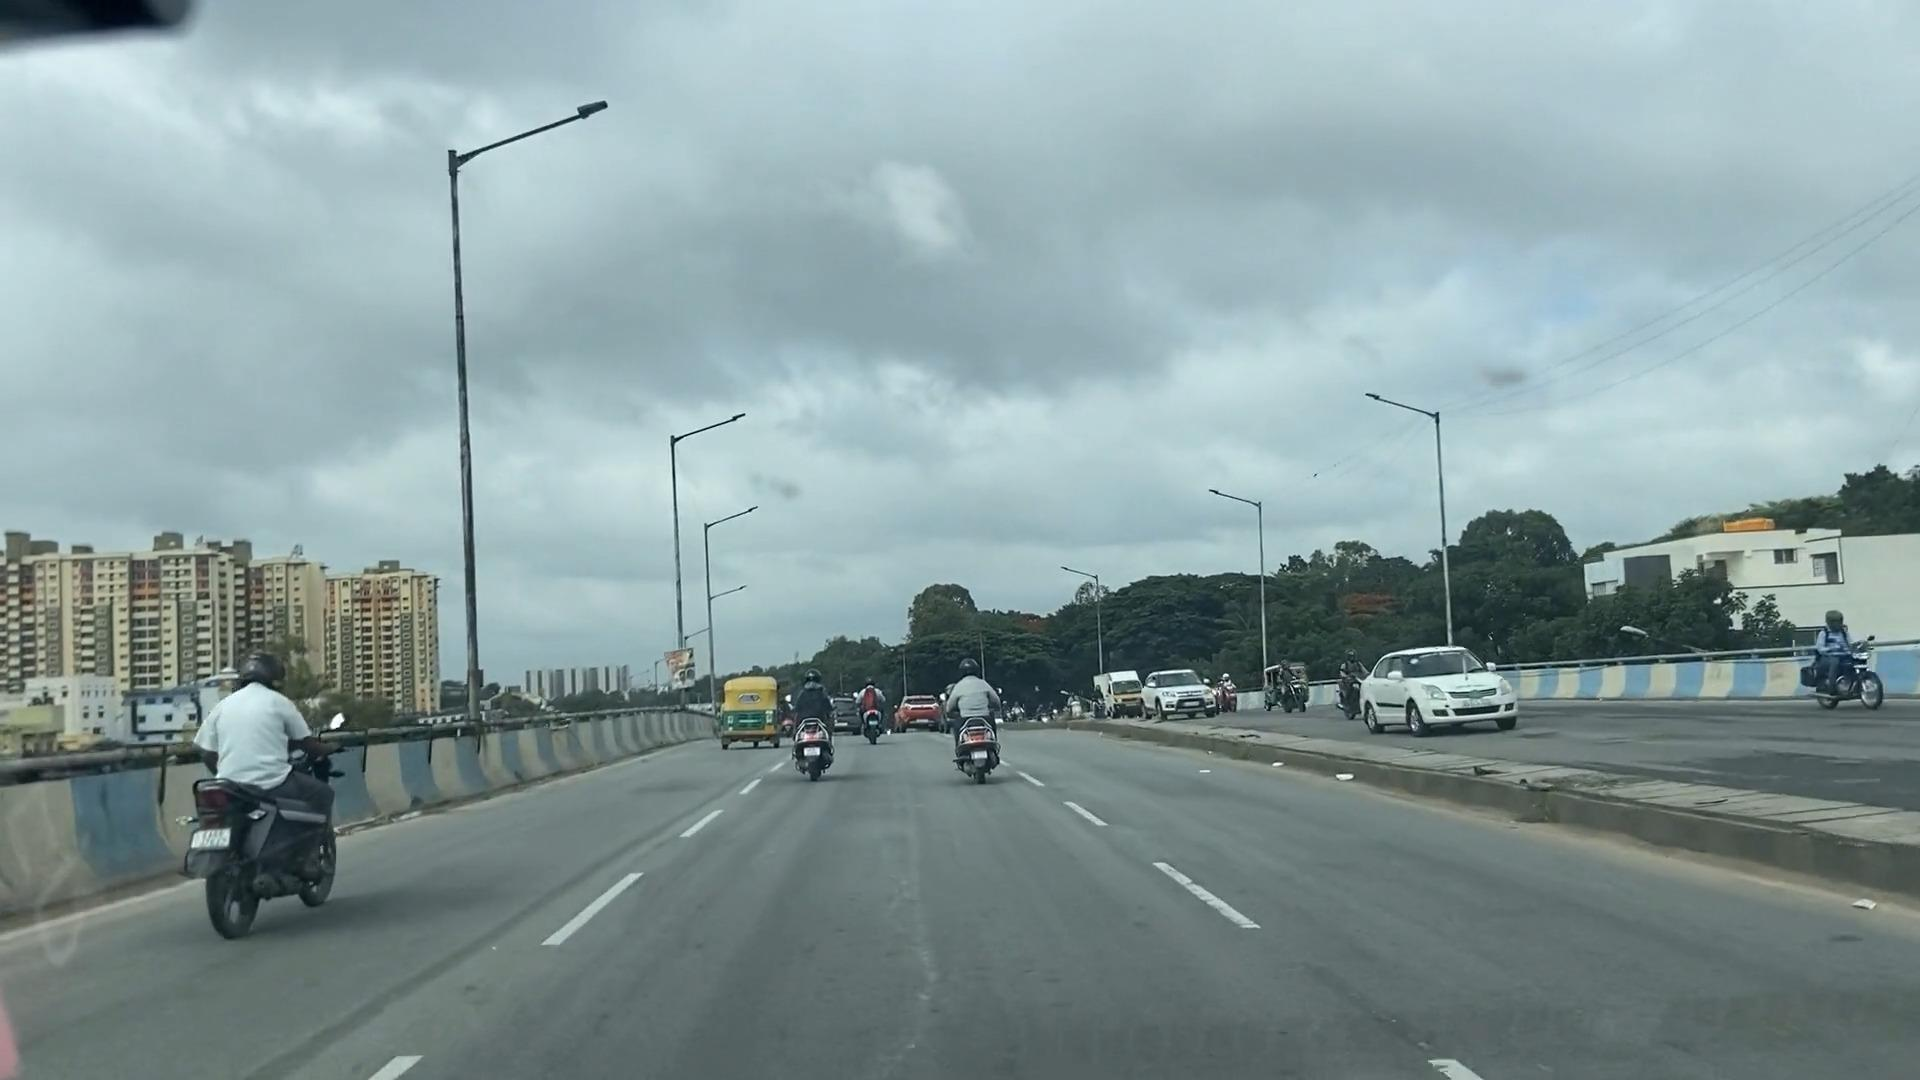LMV: (175, 647, 352, 928), (951, 654, 1014, 789), (791, 680, 837, 800), (716, 673, 775, 748), (864, 682, 887, 758)
